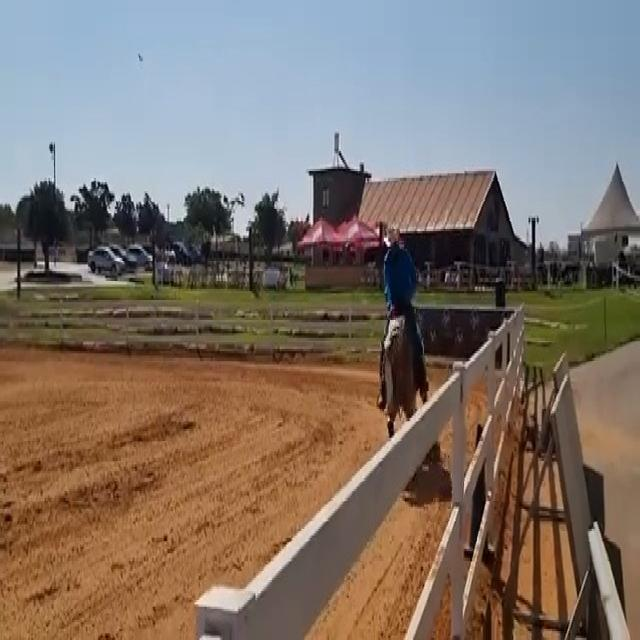horse: (378, 306, 425, 438)
